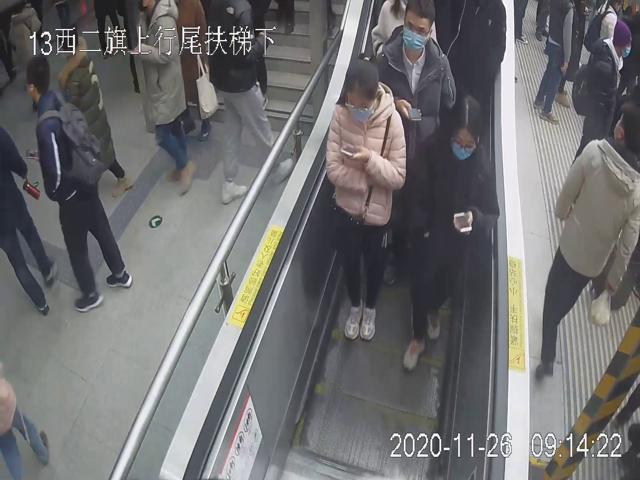person: (400, 94, 500, 376), (325, 52, 407, 347), (372, 0, 456, 161)
